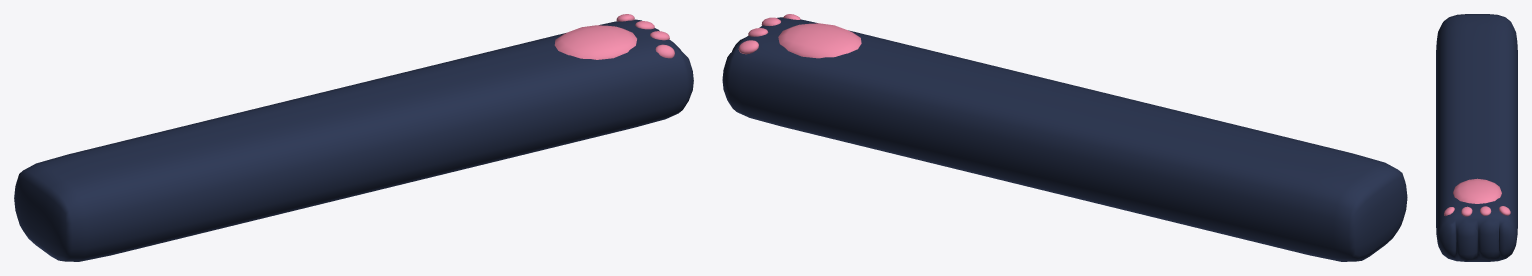
The model's file is Paw.fbx.
The picture shows the model from 3 angles, left to right: view 1: azimuth 30°, elevation 25°; view 2: azimuth 150°, elevation 25°; view 3: azimuth 270°, elevation 25°; orthographic projection. The views are drawn at different scales.
Visible parts, largest first — view 1: Paw; view 2: Paw; view 3: Paw.
Boxes of the visible parts, left/top/right/bottom form: Paw: left=14, top=14, right=693, bottom=261; Paw: left=722, top=14, right=1407, bottom=261; Paw: left=1436, top=14, right=1517, bottom=261.
Size of the model in its own units: 0.1495 by 0.0195 by 0.0248.
